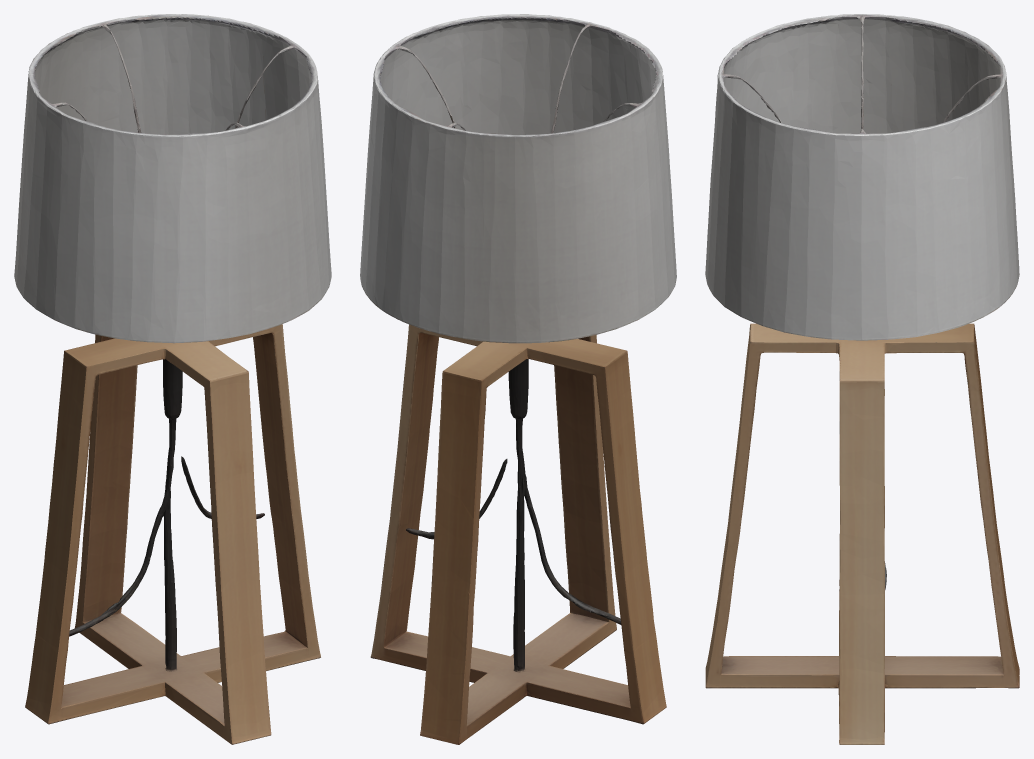
File: 553572d4-2799-4d90-8581-dad30624945b.glb
The picture shows the model from 3 angles, left to right: view 1: azimuth 30°, elevation 25°; view 2: azimuth 150°, elevation 25°; view 3: azimuth 270°, elevation 25°; orthographic projection.
Visible parts, largest first — view 1: world; view 2: world; view 3: world.
Boxes of the visible parts, box(x1,y1,x2,y2) form: world: box(14, 14, 331, 744); world: box(360, 14, 676, 744); world: box(705, 14, 1019, 744).
Bounding box in the file's own units: 0.4717 × 1 × 0.4717.
1 material, 1 textured.
